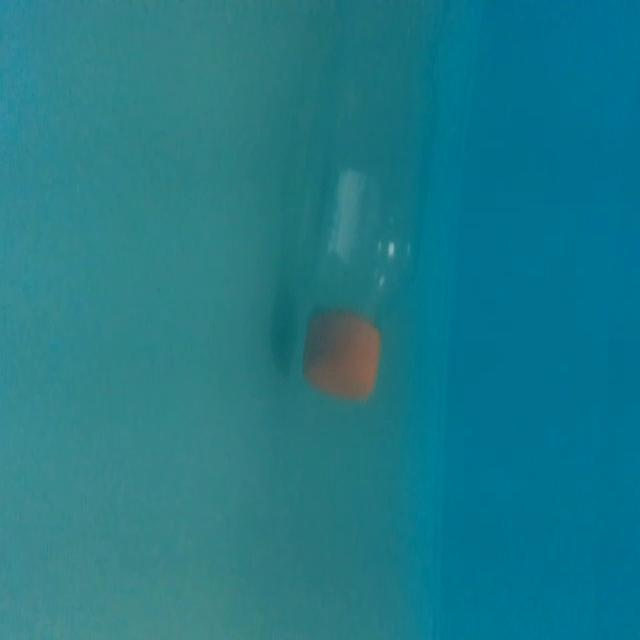plastic bottle: (264, 0, 440, 443)
